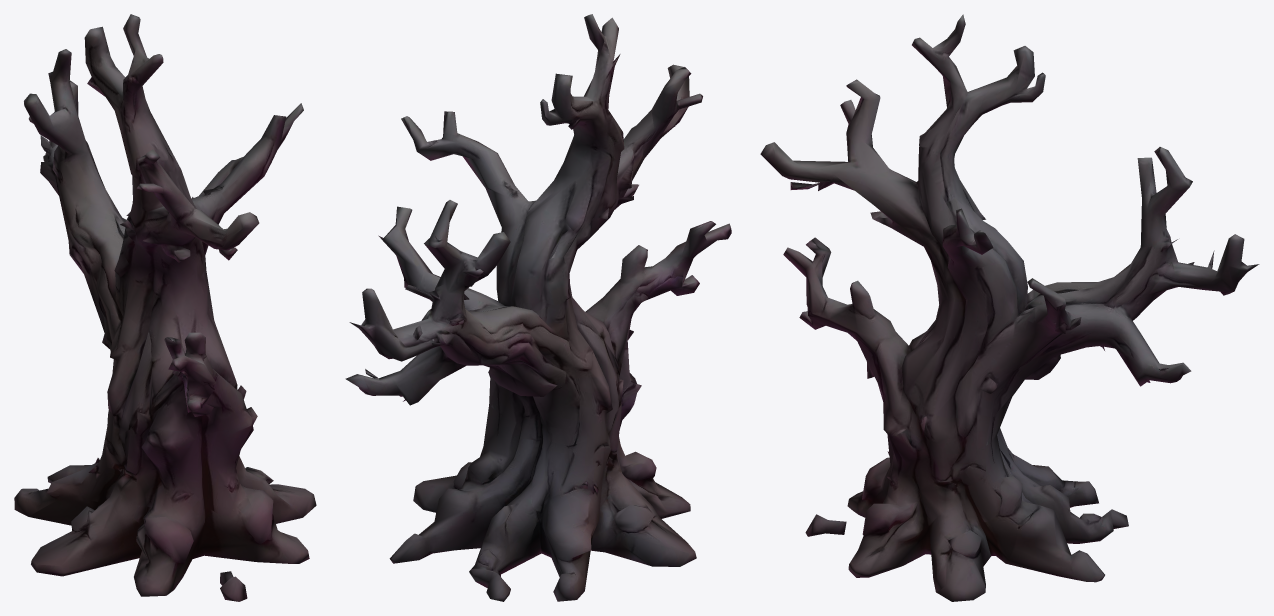
The model's file is dead-tree.glb.
The picture shows the model from 3 angles, left to right: view 1: azimuth 30°, elevation 25°; view 2: azimuth 150°, elevation 25°; view 3: azimuth 270°, elevation 25°; orthographic projection. The views are drawn at different scales.
Visible parts, largest first — view 1: tripo_node_76404468-5c14-46d5-ae8c-a28874665a54; view 2: tripo_node_76404468-5c14-46d5-ae8c-a28874665a54; view 3: tripo_node_76404468-5c14-46d5-ae8c-a28874665a54.
Boxes of the visible parts, x1=… form: tripo_node_76404468-5c14-46d5-ae8c-a28874665a54: x1=14, y1=14, x2=316, y2=601; tripo_node_76404468-5c14-46d5-ae8c-a28874665a54: x1=345, y1=14, x2=731, y2=601; tripo_node_76404468-5c14-46d5-ae8c-a28874665a54: x1=760, y1=14, x2=1259, y2=601.
Bounding box in the file's own units: 0.5528 × 1 × 0.8925.
Materials: 1 (1 with a texture image).
